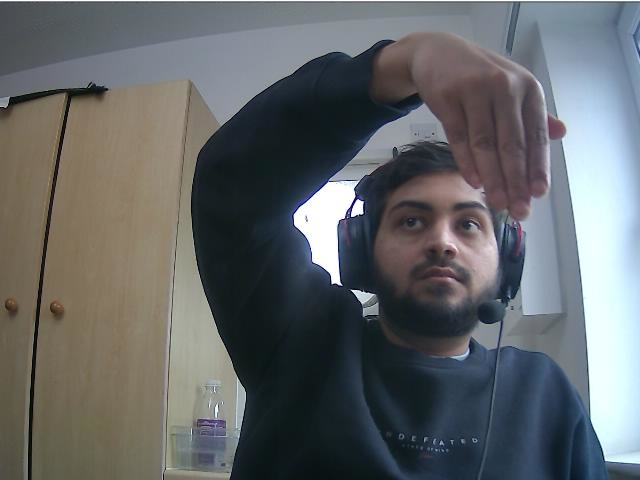down: (434, 31, 569, 219)
